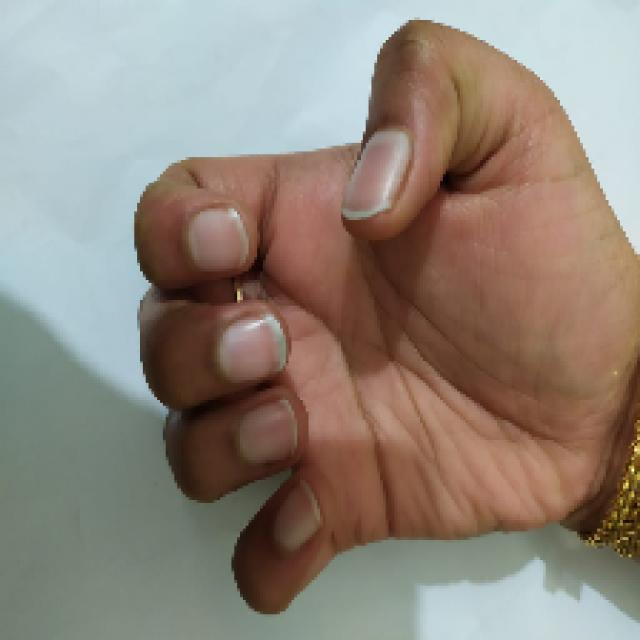Nail: (341, 131, 412, 220), (219, 314, 286, 380), (238, 399, 298, 463), (188, 208, 249, 270), (274, 480, 322, 551)
